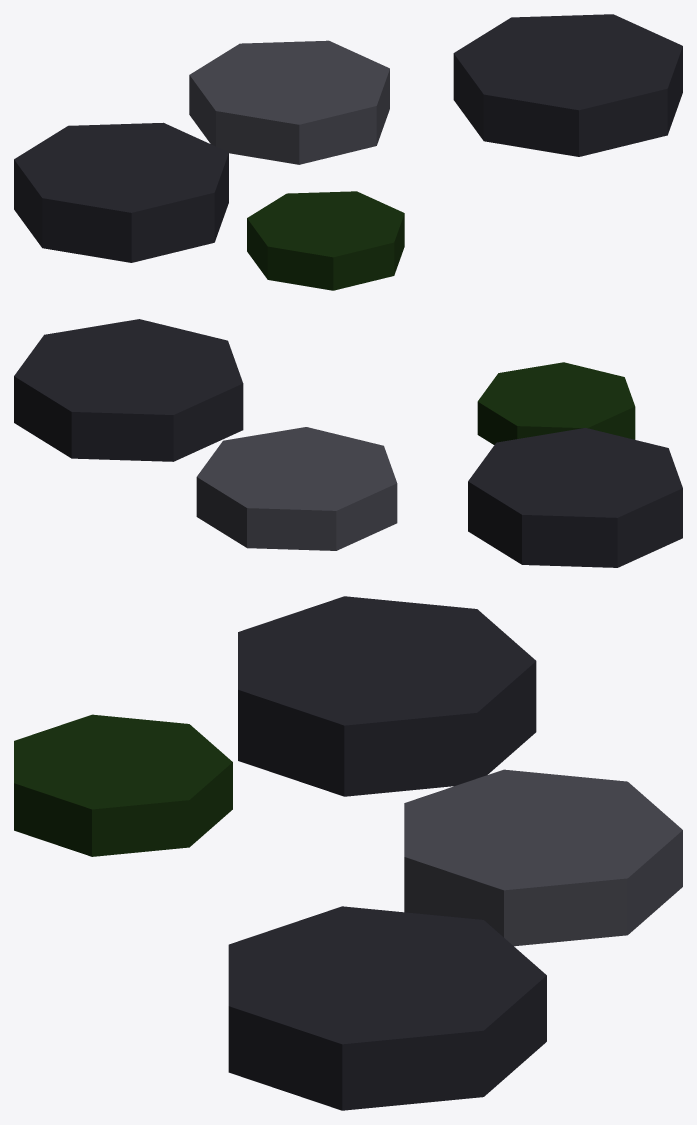
Rendered from stepping_stones.obj.
The picture shows the model from 3 angles, top to bottom: view 1: azimuth 30°, elevation 25°; view 2: azimuth 150°, elevation 25°; view 3: azimuth 270°, elevation 25°; orthographic projection. The views are drawn at different scales.
Visible parts, largest first — view 1: stepping_stones; view 2: stepping_stones; view 3: stepping_stones.
Part boxes in pixels (bbox=[...]): stepping_stones: bbox=[14, 14, 682, 290]; stepping_stones: bbox=[14, 319, 682, 567]; stepping_stones: bbox=[14, 596, 682, 1110].
Size of the model in its own units: 2 by 0.15 by 1.28.
